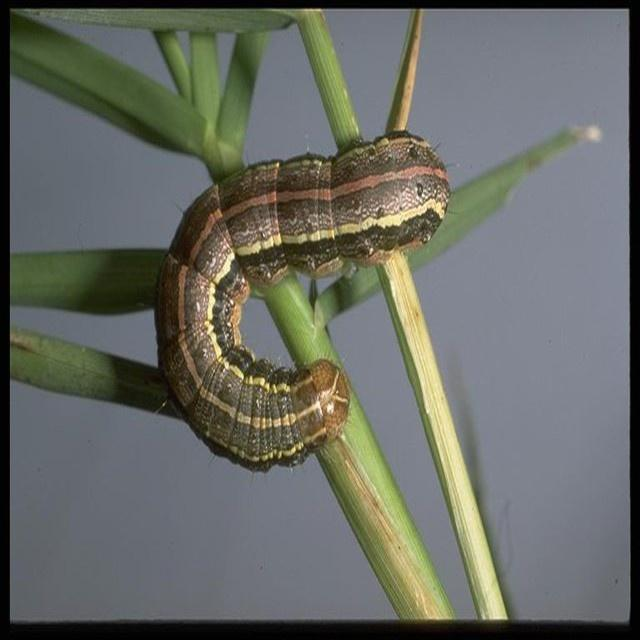Plaga: (149, 124, 455, 480)
